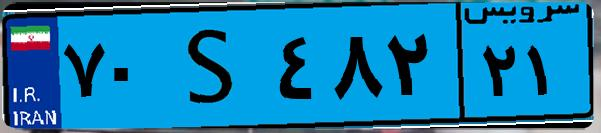0: (110, 28, 158, 98)
1: (525, 38, 570, 115)
2: (385, 28, 445, 110), (475, 38, 525, 113)
4: (270, 28, 330, 110)
7: (57, 26, 110, 100)
8: (330, 28, 385, 110)
S: (158, 12, 270, 120)
